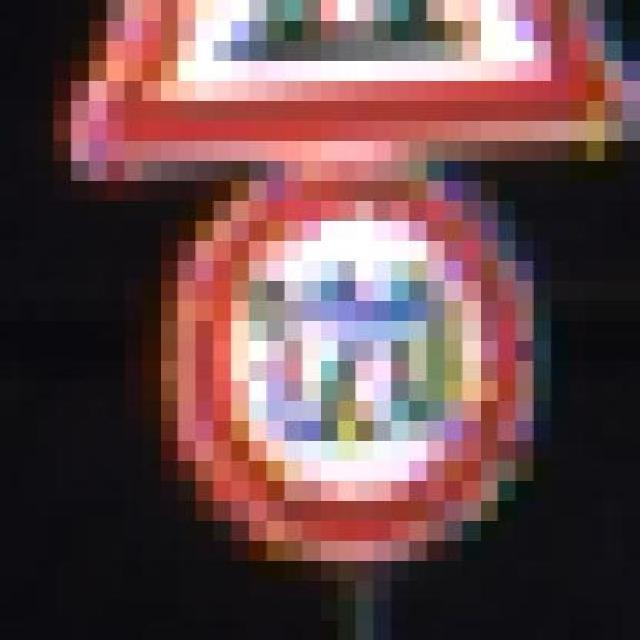forb_speed_over_120: (179, 173, 527, 559)
